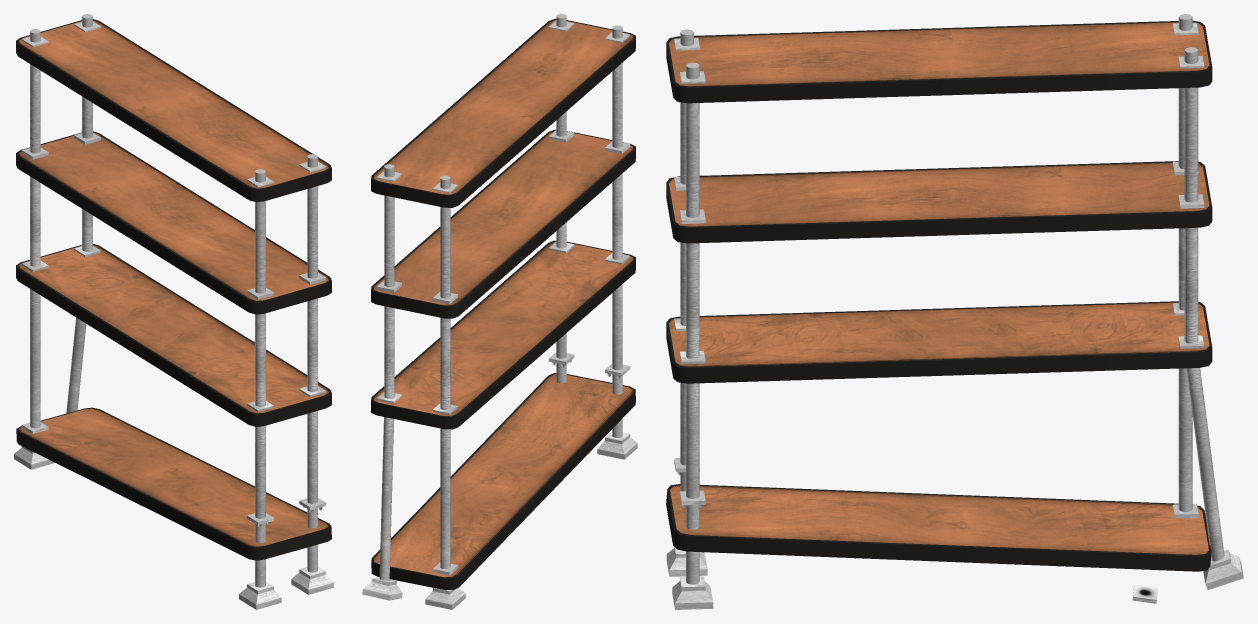
The model's file is Medium Shelf Destroyed.fbx.
3 renders of one model, left to right at view 1: azimuth 30°, elevation 25°; view 2: azimuth 150°, elevation 25°; view 3: azimuth 270°, elevation 25°, orthographic. The views are drawn at different scales.
Visible parts, largest first — view 1: Medium Shelf Destroyed, Medium Shelf Destroyed.001; view 2: Medium Shelf Destroyed, Medium Shelf Destroyed.001; view 3: Medium Shelf Destroyed, Medium Shelf Destroyed.001.
Part boxes in pixels (box(x1,y1,x2,y2)): Medium Shelf Destroyed: box(16, 19, 331, 560); Medium Shelf Destroyed.001: box(14, 14, 333, 609); Medium Shelf Destroyed: box(371, 19, 635, 590); Medium Shelf Destroyed.001: box(362, 14, 637, 609); Medium Shelf Destroyed: box(666, 21, 1212, 599); Medium Shelf Destroyed.001: box(666, 14, 1243, 609).
Size of the model in its own units: 49.97 by 185 by 181.
